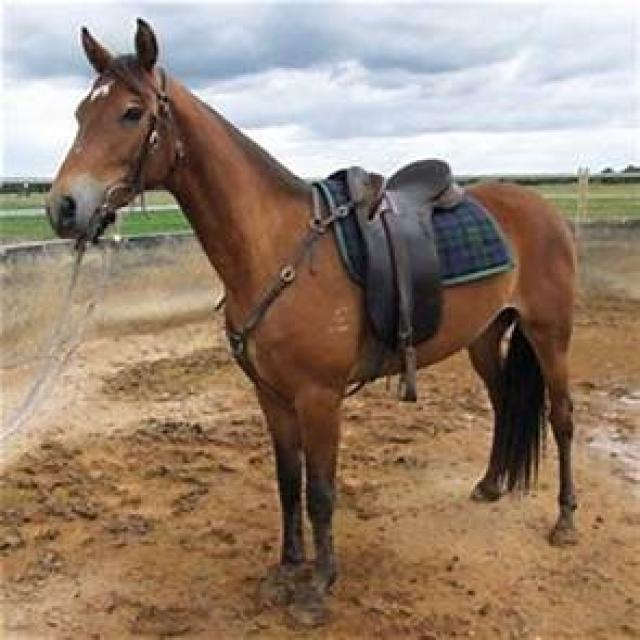horse: (46, 21, 584, 629)
